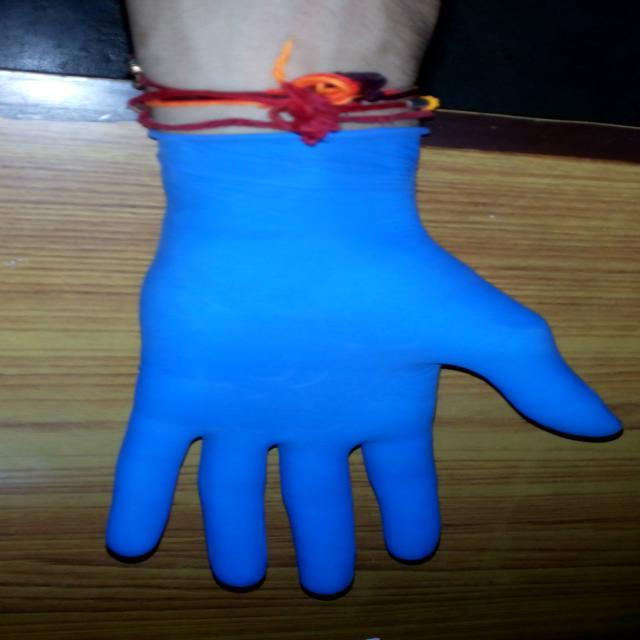gloved_hand: (93, 115, 632, 604)
